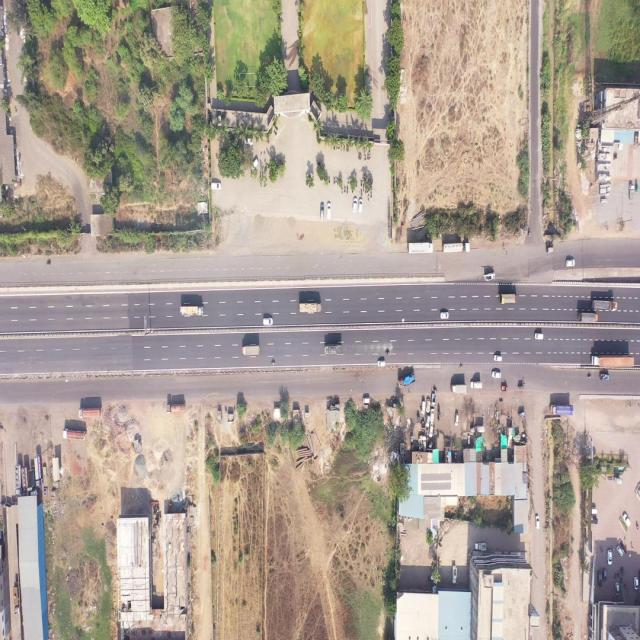3W: (516, 409, 526, 419), (501, 383, 509, 392), (546, 246, 554, 254), (517, 385, 525, 390)
Cars: (622, 509, 632, 529), (606, 550, 614, 567), (243, 134, 254, 146), (210, 181, 222, 191), (616, 542, 624, 557), (576, 394, 586, 406), (320, 202, 326, 221), (597, 570, 603, 589), (633, 574, 639, 593), (326, 202, 332, 220), (263, 316, 273, 326), (252, 157, 259, 170), (535, 513, 540, 530), (535, 332, 544, 341), (352, 196, 357, 212), (492, 370, 502, 378), (358, 198, 363, 213), (454, 411, 459, 426), (494, 354, 503, 362), (440, 312, 449, 319), (426, 397, 430, 412), (421, 399, 425, 414), (615, 580, 619, 595), (430, 410, 434, 424), (377, 360, 385, 367), (362, 397, 370, 404), (566, 259, 574, 266), (426, 416, 430, 428)
LCV: (473, 542, 488, 554), (482, 271, 496, 281), (452, 562, 458, 585), (471, 381, 484, 388), (599, 371, 609, 380)
M2W: (46, 259, 52, 267), (270, 359, 276, 366), (361, 178, 364, 188), (370, 189, 373, 199), (528, 230, 532, 237), (385, 349, 389, 356), (588, 373, 592, 380), (347, 176, 350, 184), (343, 143, 346, 151), (261, 172, 264, 180), (344, 184, 346, 194), (333, 175, 335, 184), (360, 151, 362, 160), (338, 145, 341, 151), (364, 152, 366, 161), (337, 176, 339, 185), (369, 153, 371, 161), (329, 176, 331, 184), (340, 187, 342, 195), (346, 186, 348, 194)
MAV: (590, 352, 636, 367), (442, 241, 471, 253)
Truck: (62, 424, 88, 440), (407, 242, 434, 255), (592, 298, 618, 311), (78, 407, 103, 420), (396, 372, 416, 388), (548, 402, 574, 414), (179, 305, 204, 316), (299, 302, 323, 313), (577, 311, 598, 323), (241, 345, 261, 357), (166, 403, 185, 415), (498, 292, 517, 304), (324, 343, 343, 355), (450, 382, 467, 392)
